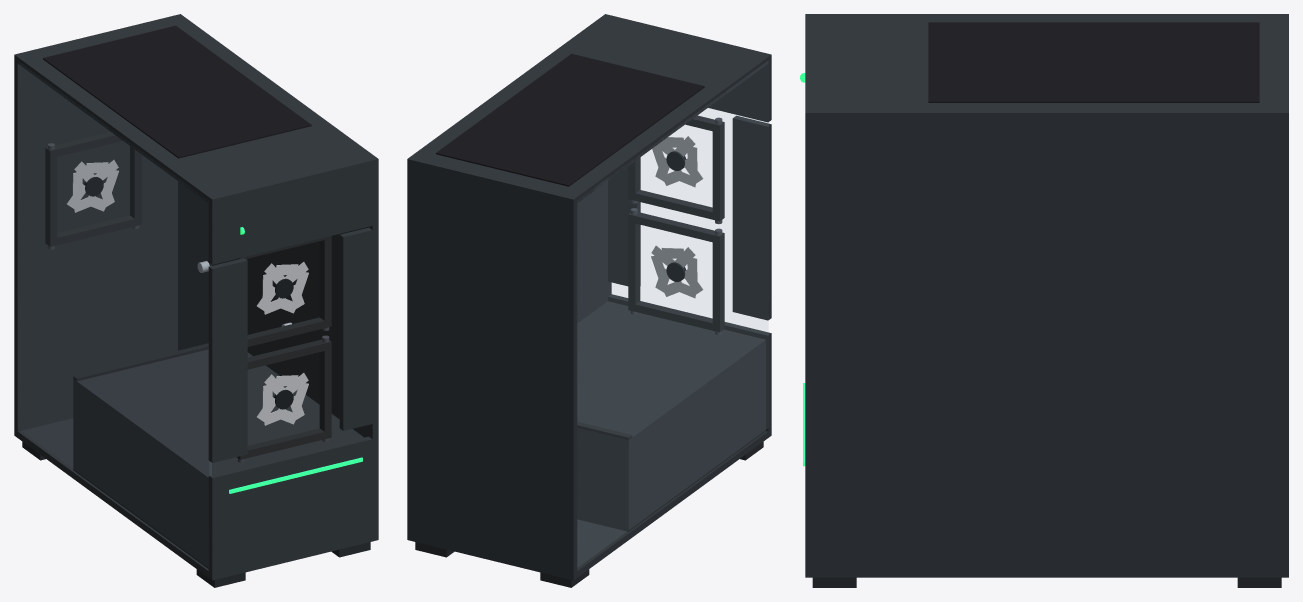
File: case.glb
The picture shows the model from 3 angles, left to right: view 1: azimuth 30°, elevation 25°; view 2: azimuth 150°, elevation 25°; view 3: azimuth 270°, elevation 25°; orthographic projection. The views are drawn at different scales.
Parts seen in each view (by area): view 1: world; view 2: world; view 3: world.
Boxes of the visible parts, bbox=[...] form: world: bbox=[14, 14, 378, 587]; world: bbox=[407, 14, 771, 587]; world: bbox=[800, 14, 1288, 587].
Bounding box in the file's own units: 8 × 18.06 × 16.68.
